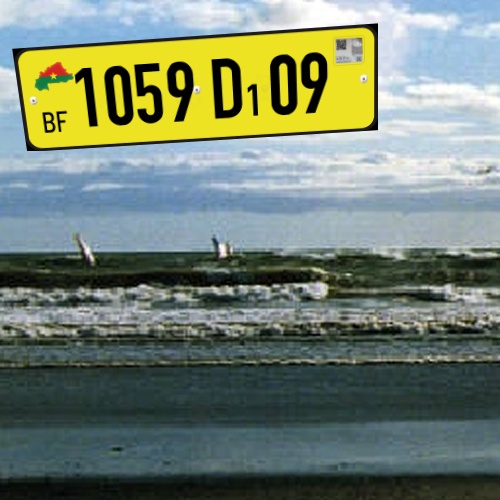plate: (10, 23, 393, 153)
